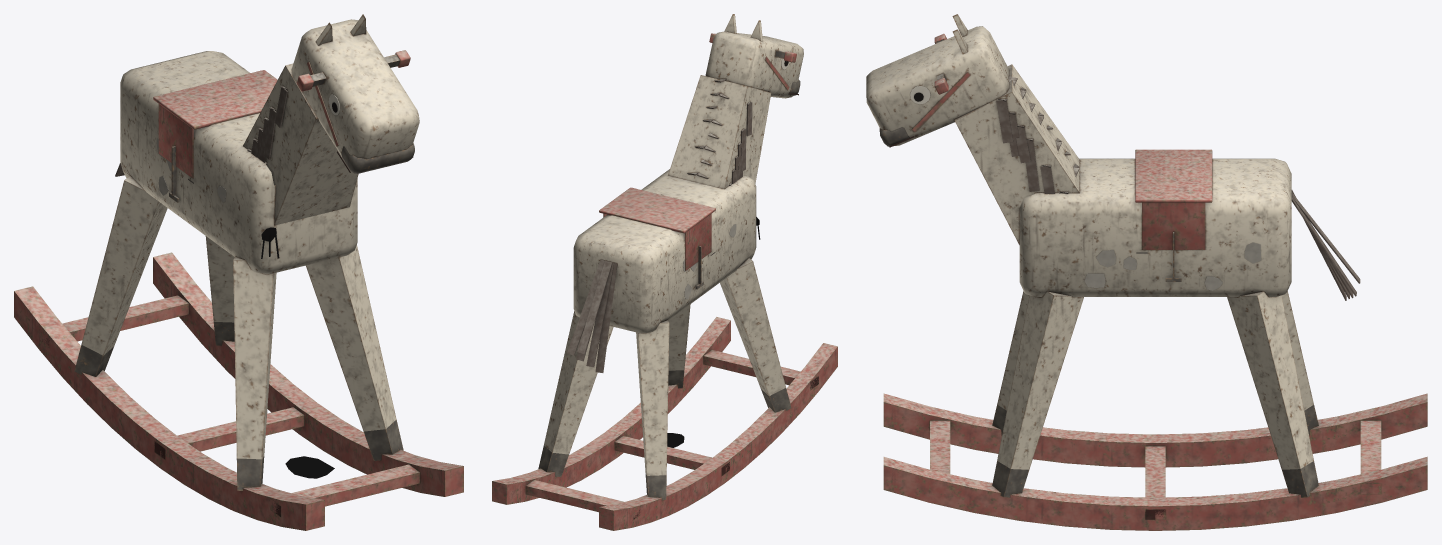
Rendered from rocking_horse_giant.fbx.
3 renders of one model, left to right at view 1: azimuth 30°, elevation 25°; view 2: azimuth 150°, elevation 25°; view 3: azimuth 270°, elevation 25°, orthographic. The views are drawn at different scales.
Parts seen in each view (by area): view 1: Body; view 2: Body; view 3: Body.
Boxes of the visible parts, x1,y1,x2,y2 form: Body: (14,14,463,530); Body: (492,14,837,530); Body: (866,14,1427,530).
Bounding box in the file's own units: 7.9 × 23.06 × 24.76.
1 material, 1 textured.
